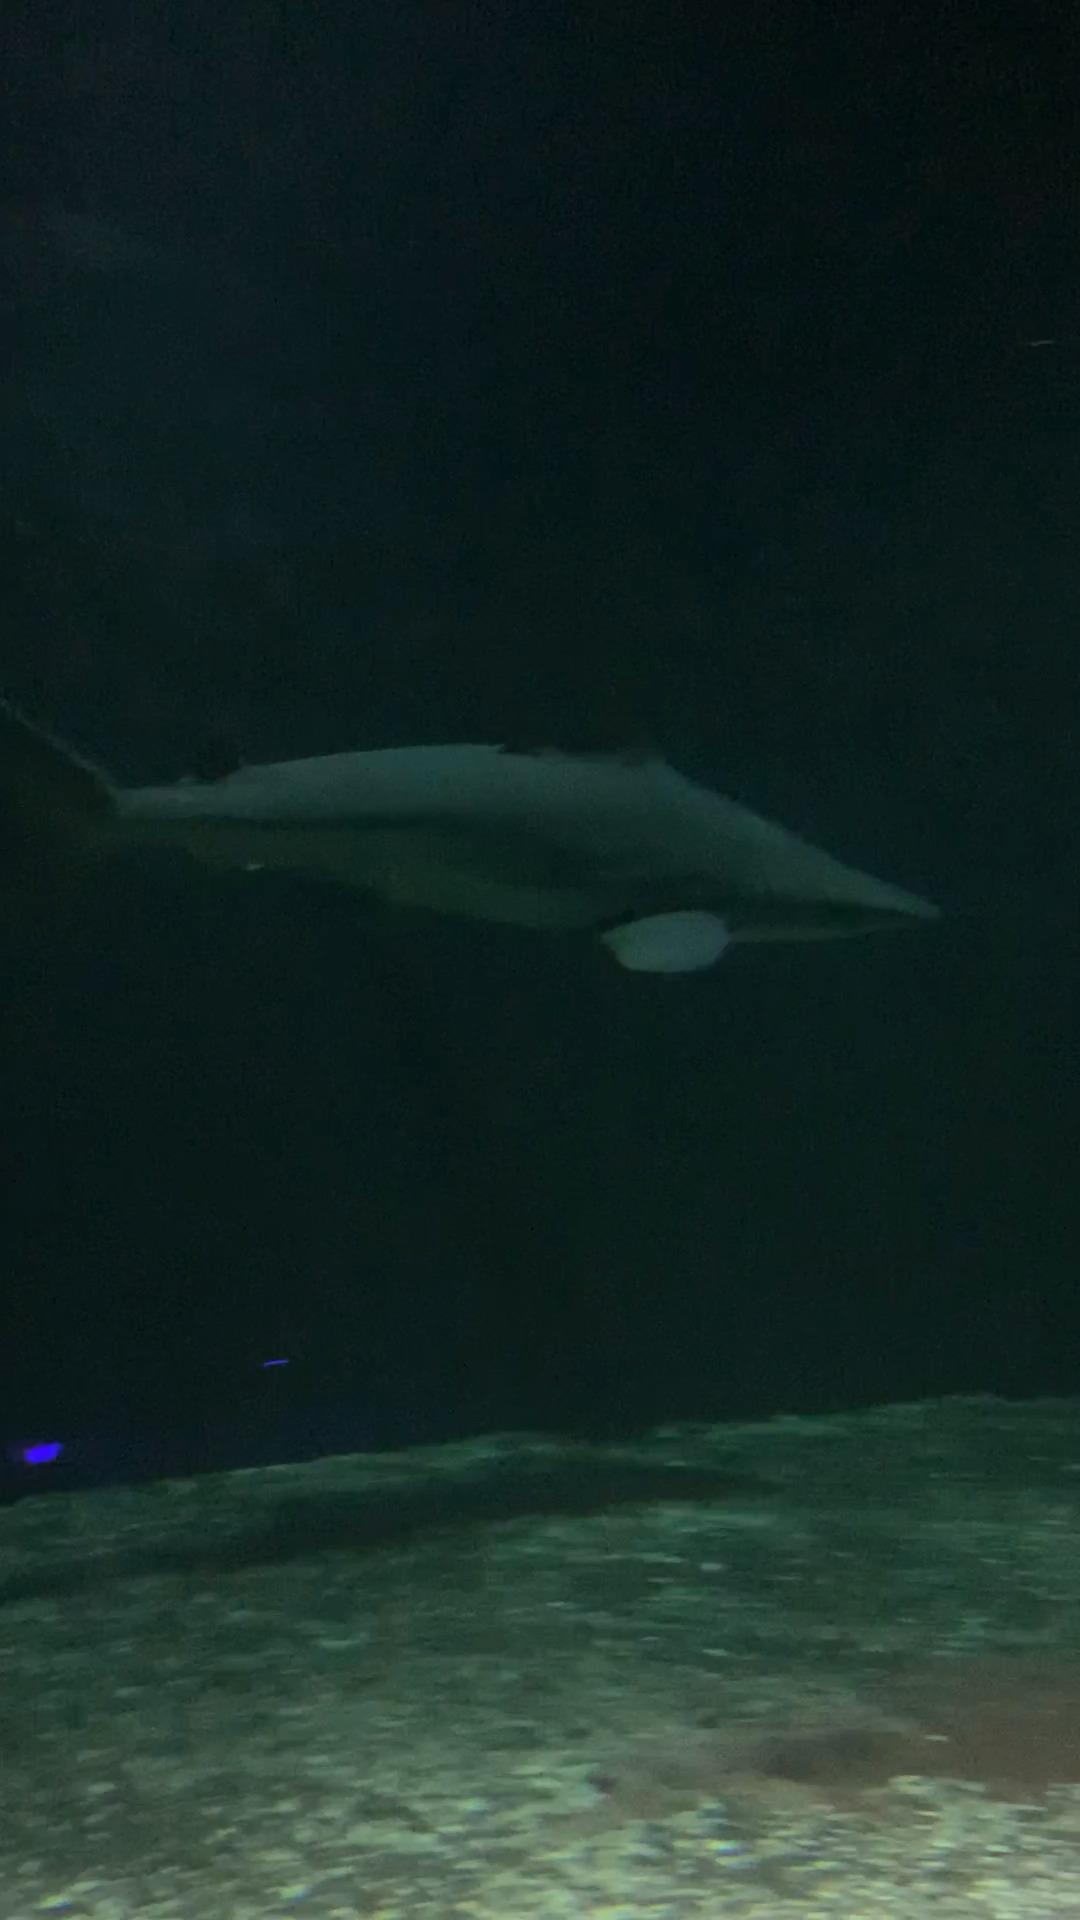shark: (18, 650, 934, 975)
